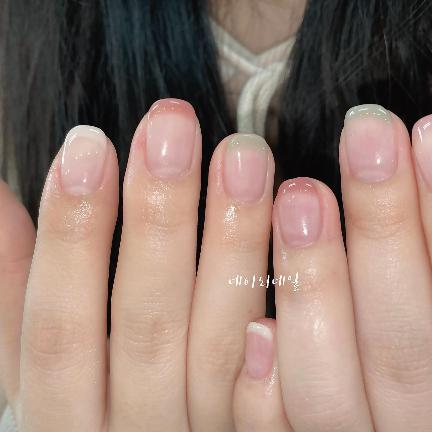Nail: (145, 99, 196, 179), (345, 104, 397, 182), (61, 125, 108, 195), (276, 178, 322, 248), (224, 134, 268, 204), (245, 322, 274, 378), (412, 115, 432, 192)
